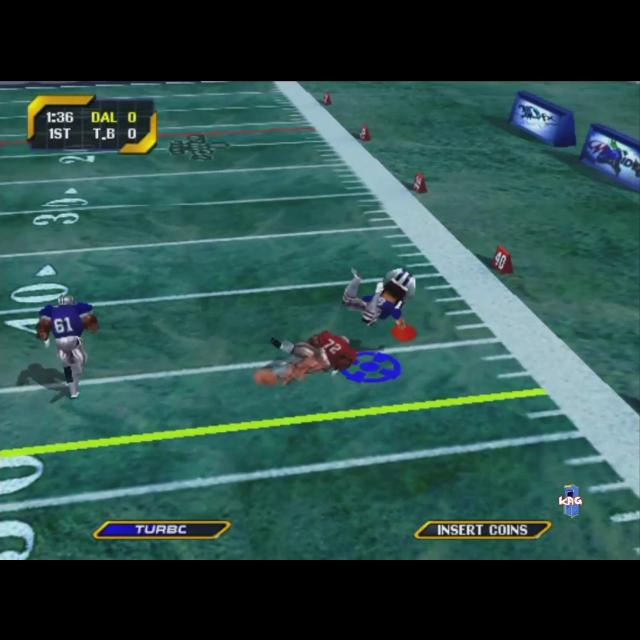player: (38, 293, 98, 397), (260, 330, 356, 384), (342, 266, 416, 326)
